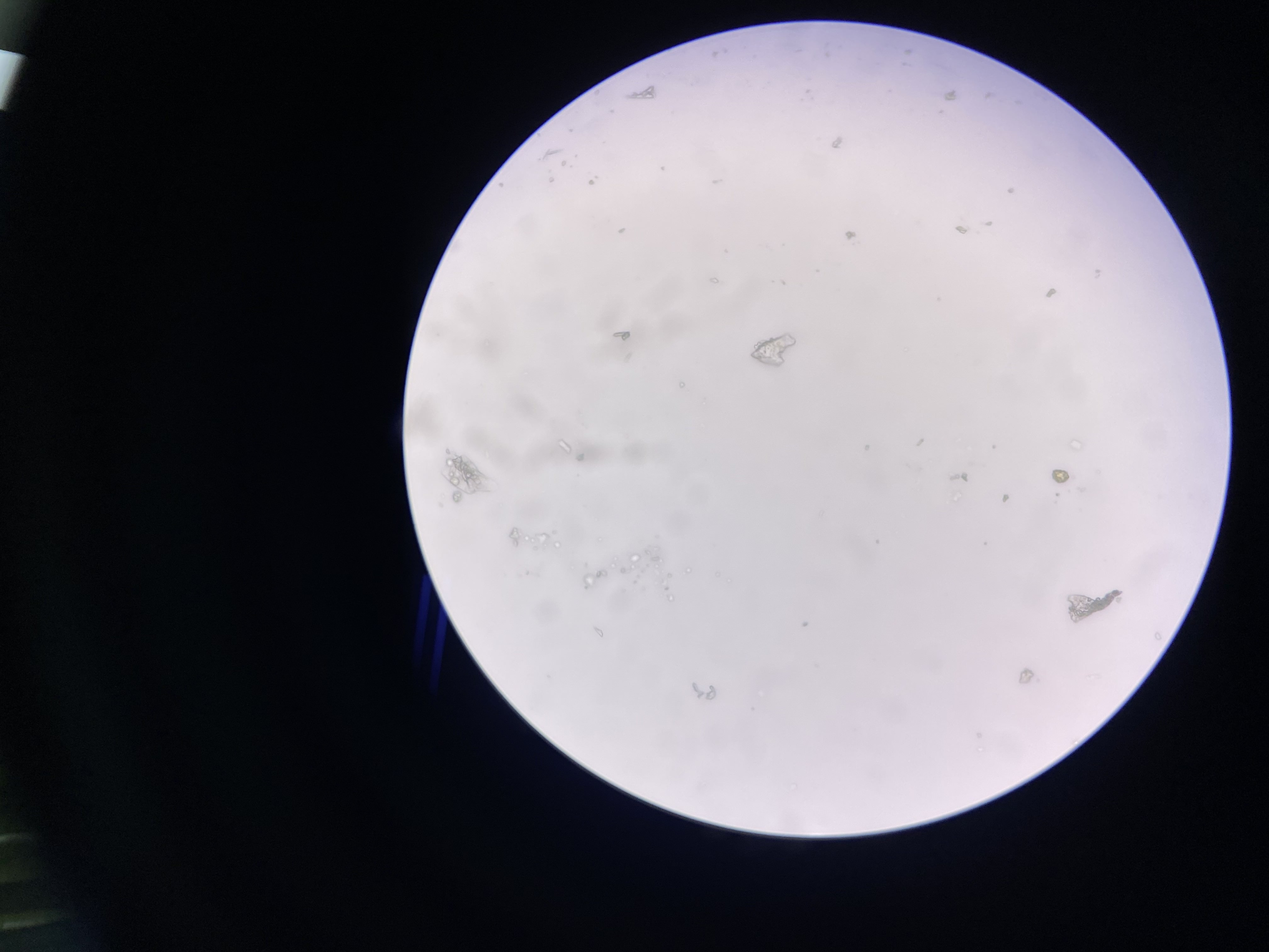not_microplastic: (439, 447, 499, 503), (1065, 590, 1129, 624), (748, 334, 799, 368), (508, 526, 568, 554), (691, 679, 716, 699), (1018, 671, 1037, 691), (1052, 467, 1070, 485), (949, 467, 969, 483), (557, 435, 572, 456), (630, 89, 658, 100), (580, 573, 595, 587), (943, 92, 958, 105), (614, 330, 633, 339), (1041, 290, 1059, 299), (844, 227, 854, 242), (1092, 266, 1104, 278), (832, 138, 844, 149), (1068, 442, 1080, 452), (953, 226, 965, 236), (632, 552, 640, 563), (1006, 187, 1016, 191)
